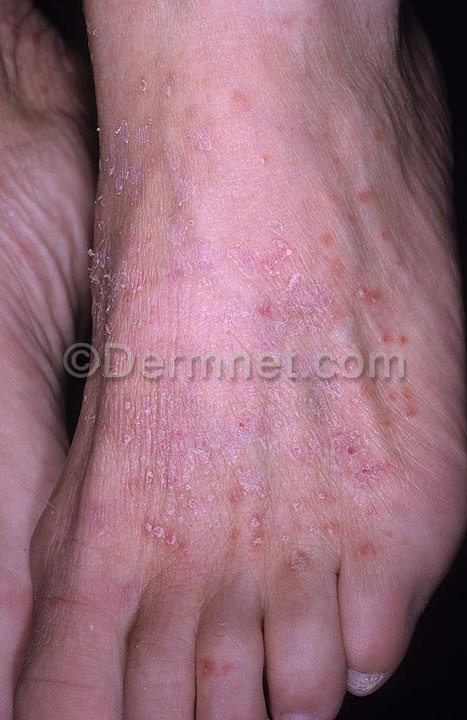Melasma: (81, 379, 434, 573), (93, 98, 232, 337), (240, 189, 407, 348)
